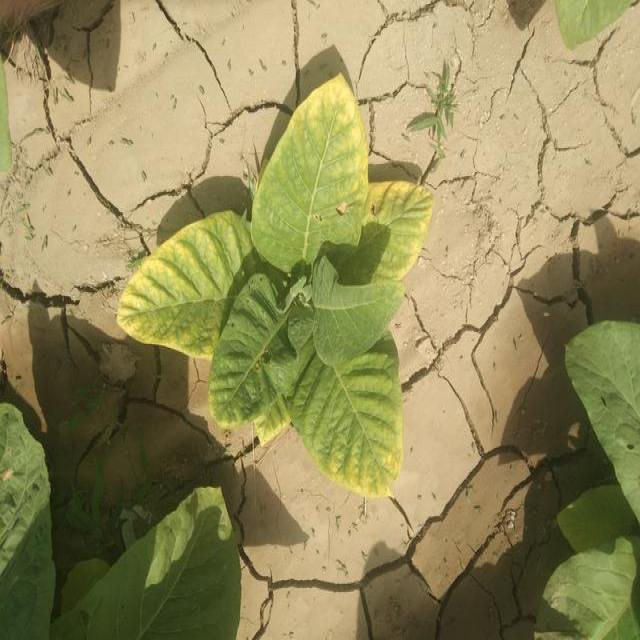crop: (126, 90, 434, 509), (0, 414, 241, 640), (550, 313, 639, 640), (546, 0, 625, 59)
